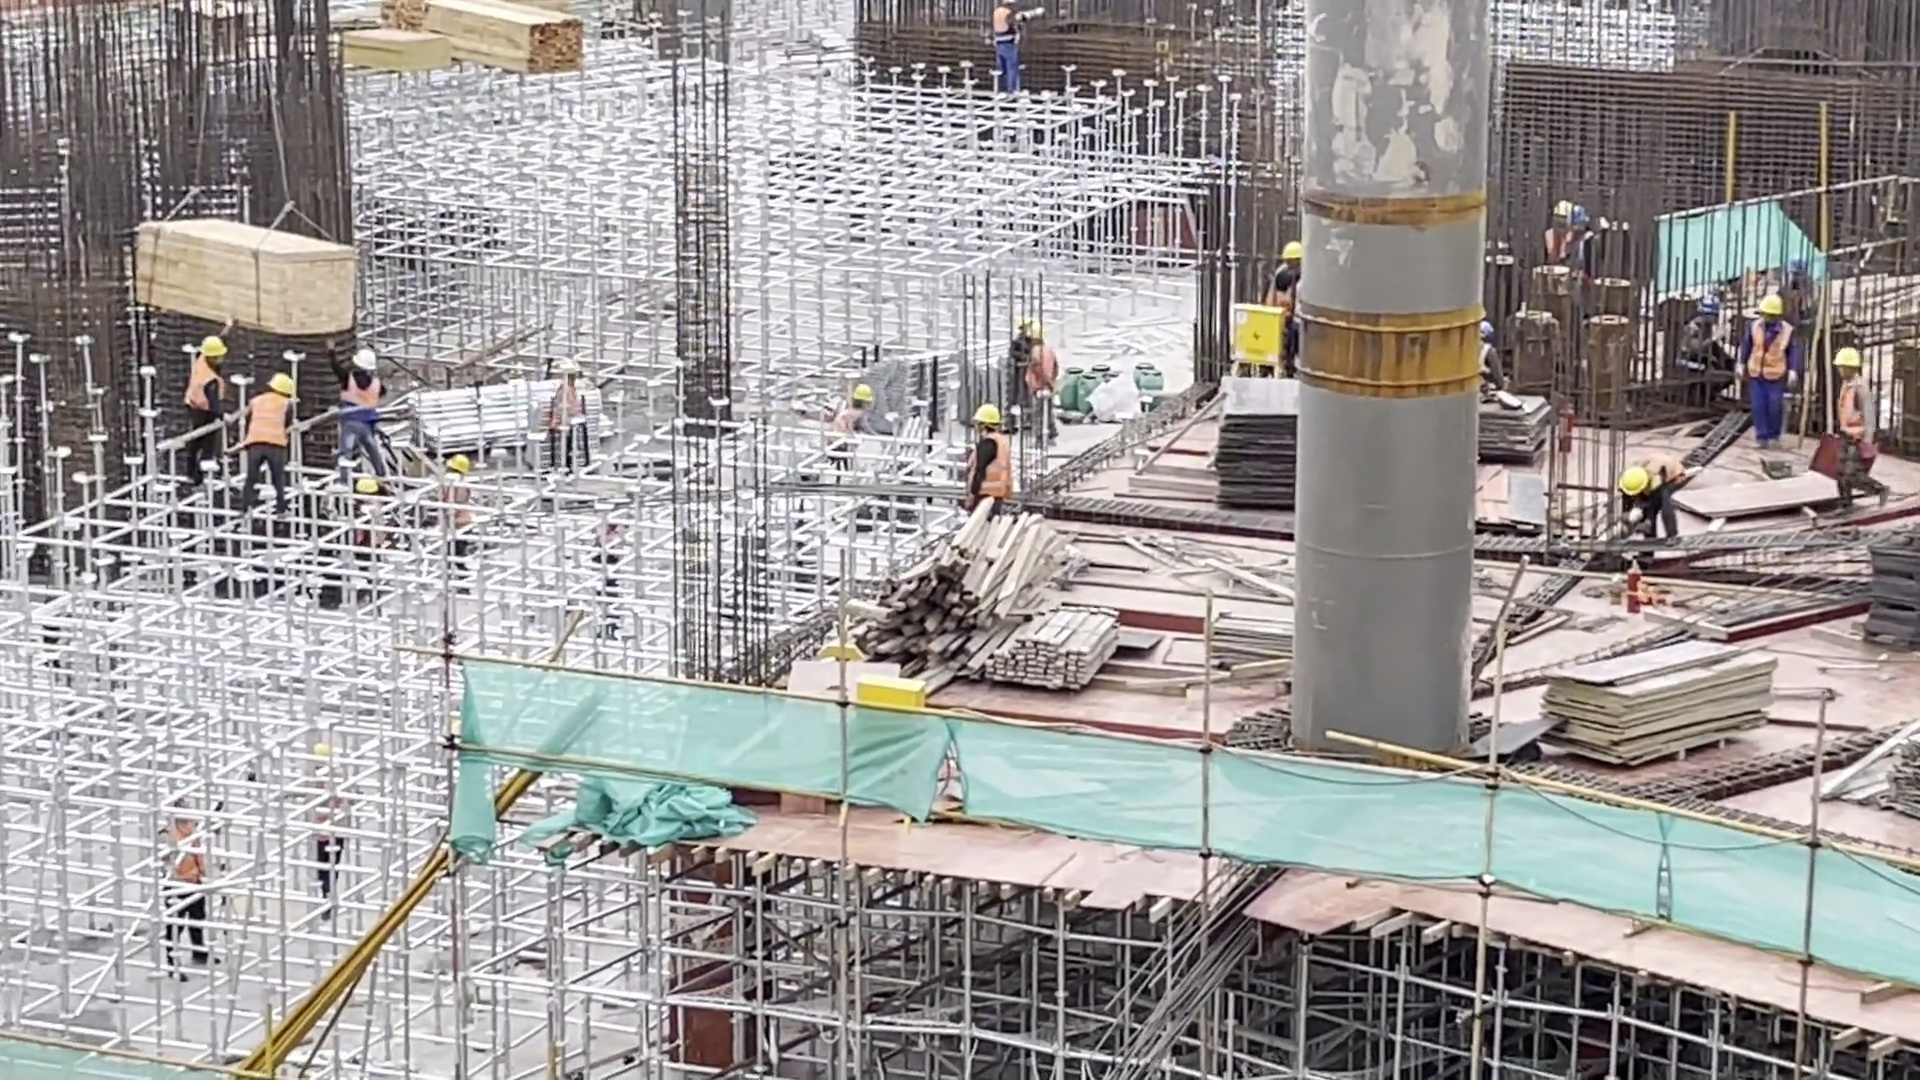helmet: (1616, 464, 1650, 500), (1833, 344, 1867, 370), (1756, 292, 1786, 320), (269, 370, 297, 399), (199, 334, 229, 359), (352, 347, 378, 373), (974, 403, 1003, 427)
person: (317, 326, 384, 503), (1833, 346, 1888, 517), (242, 372, 302, 514), (1748, 292, 1795, 452), (180, 334, 229, 477), (173, 796, 208, 983), (1620, 456, 1689, 546), (1677, 288, 1731, 396), (964, 397, 1009, 508), (1018, 319, 1057, 434), (990, 1, 1037, 96), (1251, 236, 1304, 316), (318, 808, 351, 905), (1475, 317, 1513, 399), (1569, 199, 1600, 277), (835, 381, 875, 426), (1546, 192, 1568, 259)
vest: (1748, 315, 1793, 383), (970, 437, 1015, 504), (242, 393, 293, 448), (1840, 381, 1879, 440), (183, 359, 224, 415)
